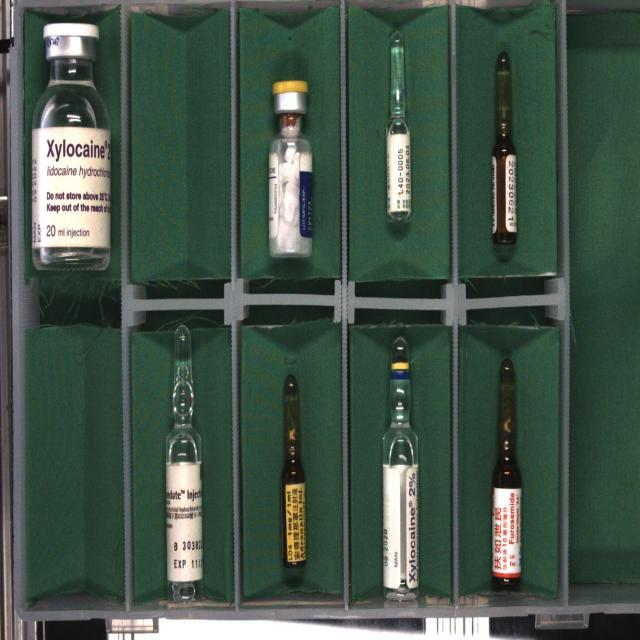Vials: (31, 23, 110, 270), (268, 80, 312, 258)
